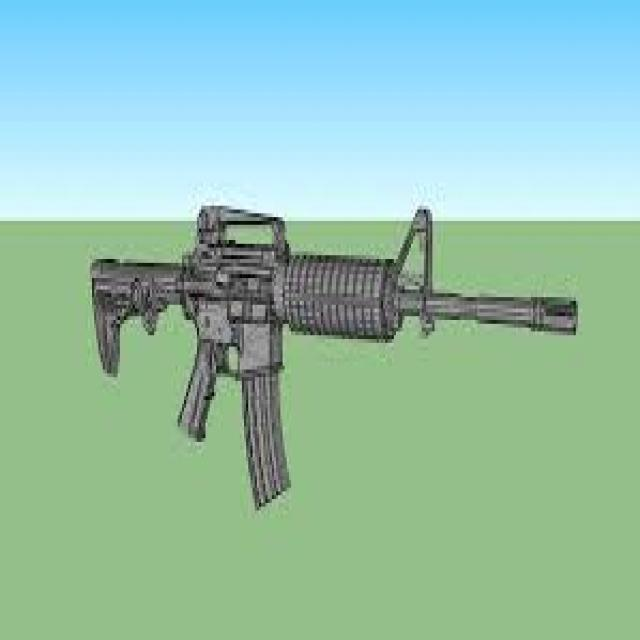m16: (76, 152, 604, 540)
